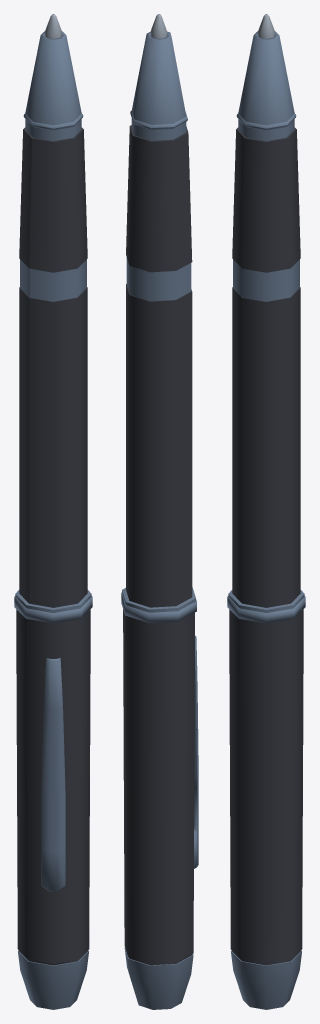
File: pen.dae
3 renders of one model, left to right at view 1: azimuth 90°, elevation 25°; view 2: azimuth 210°, elevation 25°; view 3: azimuth 270°, elevation 25°, orthographic.
Parts seen in each view (by area): view 1: pen; view 2: pen; view 3: pen.
Boxes of the visible parts, left/top/right/bottom form: pen: left=14, top=14, right=92, bottom=1009; pen: left=121, top=14, right=198, bottom=1009; pen: left=227, top=14, right=305, bottom=1009.
Bounding box in the file's own units: 0.0104 × 0.0101 × 0.14.
